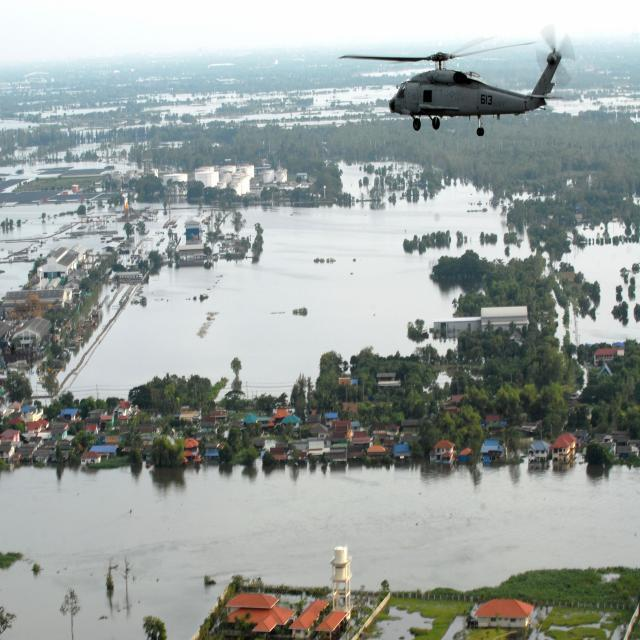flood: (0, 466, 640, 640), (70, 185, 508, 396), (0, 203, 78, 296), (572, 244, 640, 342)
house: (224, 586, 288, 634), (467, 596, 536, 631), (197, 160, 256, 192), (480, 304, 530, 336), (2, 286, 74, 308), (290, 600, 328, 638), (38, 247, 81, 280), (9, 320, 49, 353), (549, 432, 578, 472), (316, 610, 348, 640), (432, 316, 479, 336), (82, 444, 119, 466), (481, 438, 507, 466), (429, 441, 458, 466), (1, 426, 19, 464), (270, 404, 296, 426), (375, 370, 402, 388), (179, 405, 203, 425), (593, 348, 616, 368), (183, 439, 201, 464), (528, 442, 548, 464), (185, 220, 203, 243), (331, 420, 349, 443), (117, 268, 143, 283), (37, 444, 56, 464), (23, 404, 44, 421), (209, 408, 227, 424), (309, 439, 325, 455), (394, 444, 412, 458), (352, 432, 371, 444), (402, 420, 421, 432), (60, 409, 80, 420), (308, 424, 326, 436), (27, 421, 42, 435), (116, 402, 132, 415), (270, 446, 286, 459), (368, 445, 384, 456), (100, 414, 114, 425), (296, 172, 308, 184)
